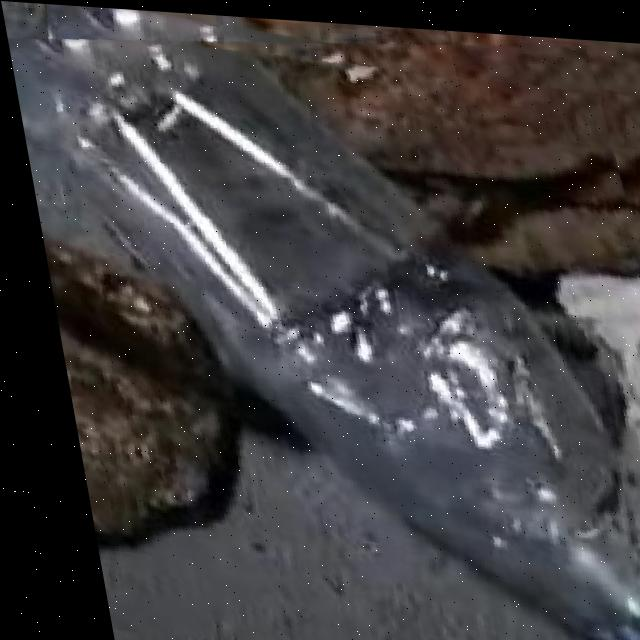litter: (1, 7, 640, 640)
